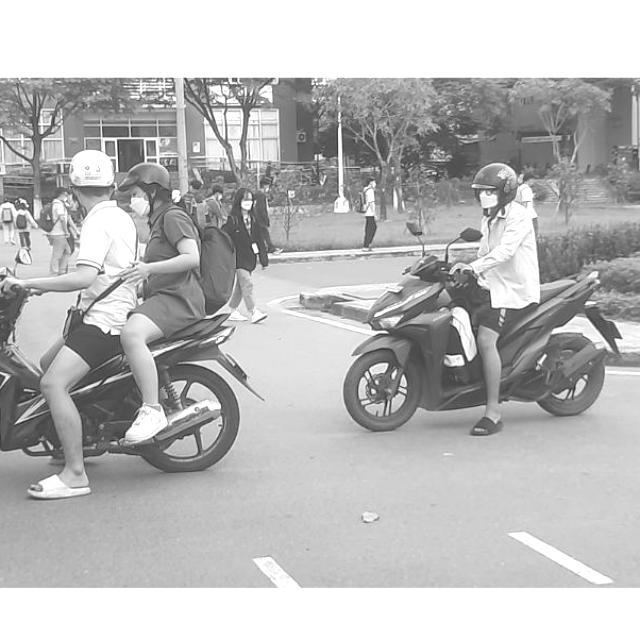Helmet: (470, 160, 520, 217), (122, 163, 172, 213), (66, 150, 115, 200)
